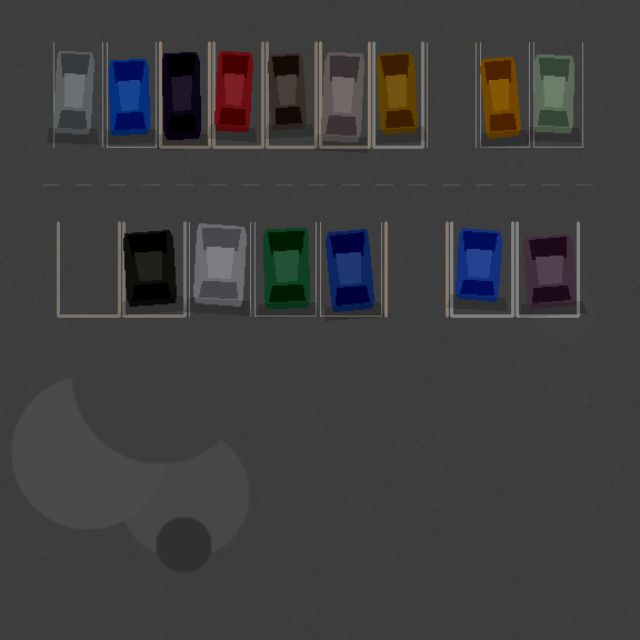space-empty: (58, 222, 119, 316), (386, 222, 447, 316), (427, 42, 476, 147)
space-occupied: (254, 222, 316, 316), (123, 222, 184, 316), (189, 222, 250, 316), (320, 222, 381, 316), (451, 222, 512, 316), (517, 222, 578, 316), (53, 42, 102, 147), (107, 42, 156, 147), (160, 42, 209, 147), (213, 42, 262, 147), (267, 42, 316, 147), (320, 42, 369, 147), (373, 42, 422, 147), (480, 42, 529, 147), (533, 42, 582, 147)
